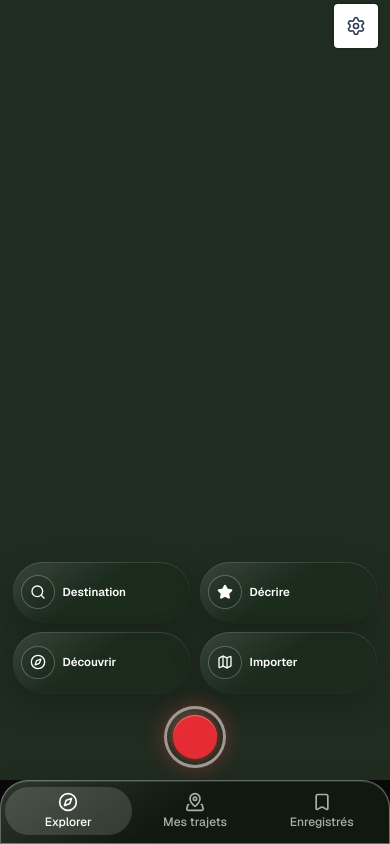
Test case: RideApp mobile shell (FR-031, FR-035) › generates an AI loop in place from the distance slider (FR-034, FR-011)
This screenshot has width=390, height=844.
Click the button with aria-label "Décrire mon trajet": (288, 592) top-left (199, 561), bottom-right (378, 623)
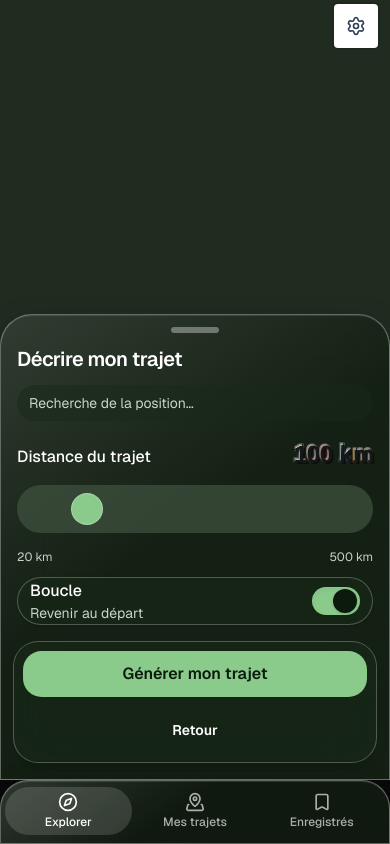
Now the slider named "Distance du trajet en kilomètres" is shown
Now the switch named "Boucle" is checked, box top-left (312, 587), bottom-right (360, 615)
Set the slider named "Distance du trajet en kilomètres" to "80": (68, 509) top-left (17, 485), bottom-right (373, 533)
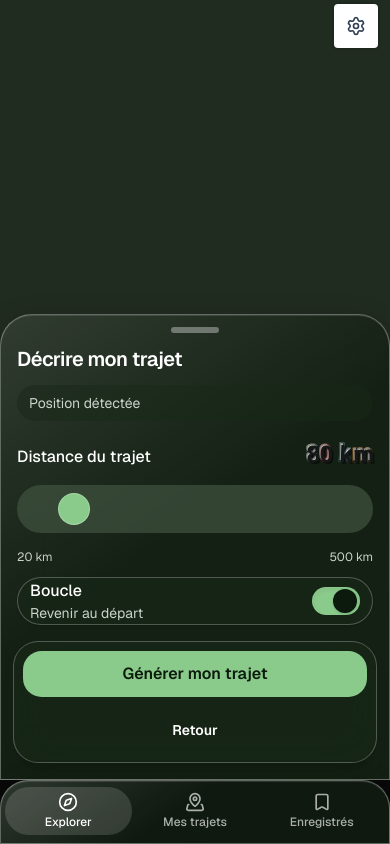
Click the button "Générer mon trajet": (195, 674) top-left (22, 650), bottom-right (368, 698)
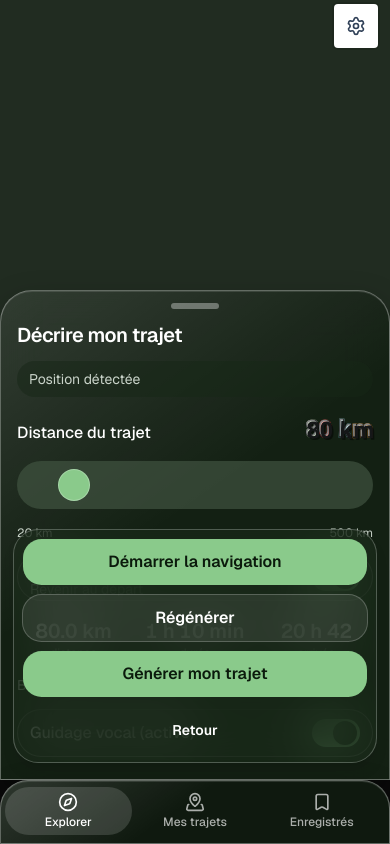
Now the heading "Décrire mon trajet" is shown, box top-left (17, 322), bottom-right (182, 348)
Now the button "Démarrer la navigation" is enabled, box top-left (22, 538), bottom-right (368, 586)
Now the button "Régénérer" is enabled, box top-left (22, 594), bottom-right (368, 642)
